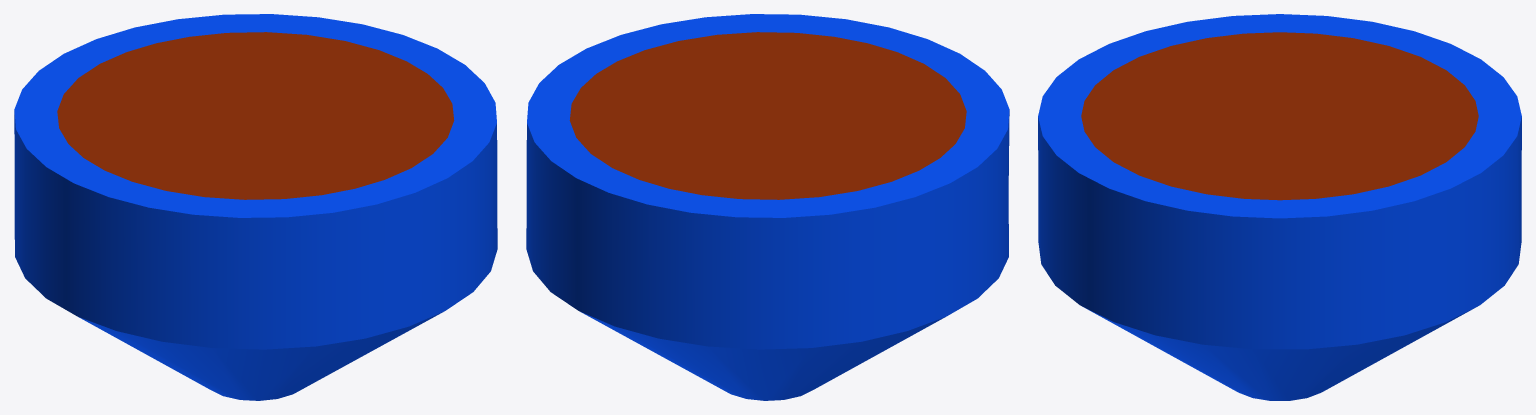
File: pot8.fbx
3 views of the same model, side by side, from view 1: azimuth 30°, elevation 25°; view 2: azimuth 150°, elevation 25°; view 3: azimuth 270°, elevation 25° (orthographic).
Visible parts, largest first — view 1: Pot_2, Dirt; view 2: Pot_2, Dirt; view 3: Pot_2, Dirt.
Boxes of the visible parts, x1,y1,x2,y2 form: Pot_2: (14, 14, 497, 400); Dirt: (57, 32, 454, 199); Pot_2: (526, 14, 1009, 400); Dirt: (569, 32, 966, 199); Pot_2: (1038, 14, 1521, 400); Dirt: (1081, 32, 1478, 200).
Bounding box in the file's own units: 3.28 × 1.97 × 3.28.
